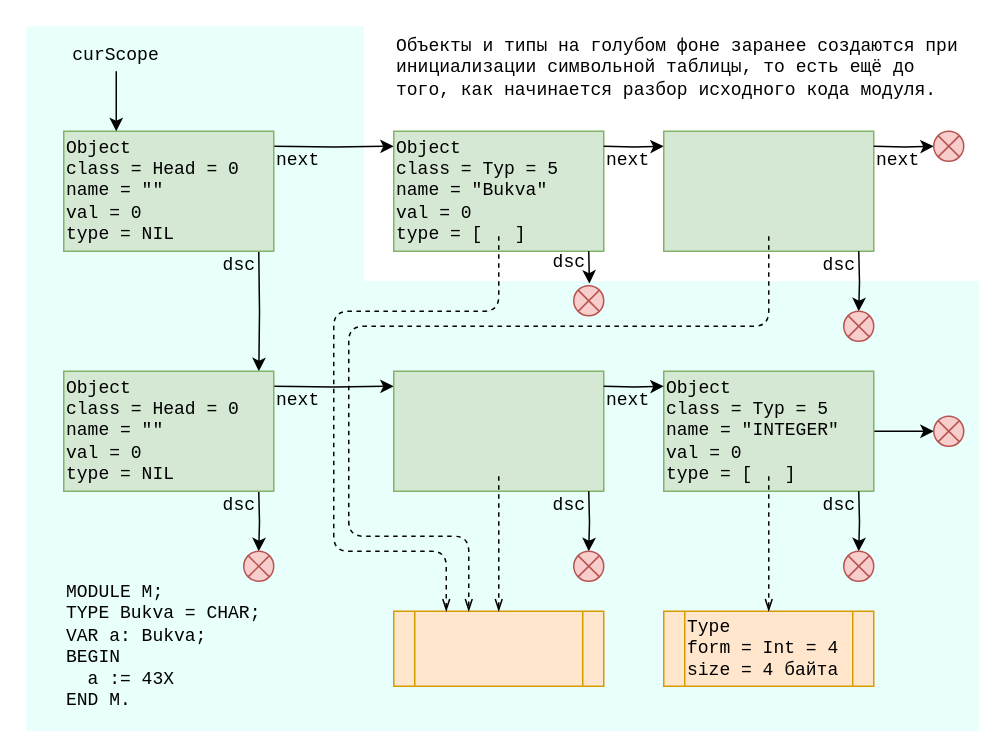
This 1004x756 diagram has some shape labels left out. Each missing label, with the centre of its shape:
Object class = Typ = 5 name = "CHAR" val = 0 type = [ ]: (498,430)
Object class = Var = 2 name = "a" val = 80002012 type = [ ]: (768,190)
Type form = Char = 3 size = 1 байт: (498,648)
